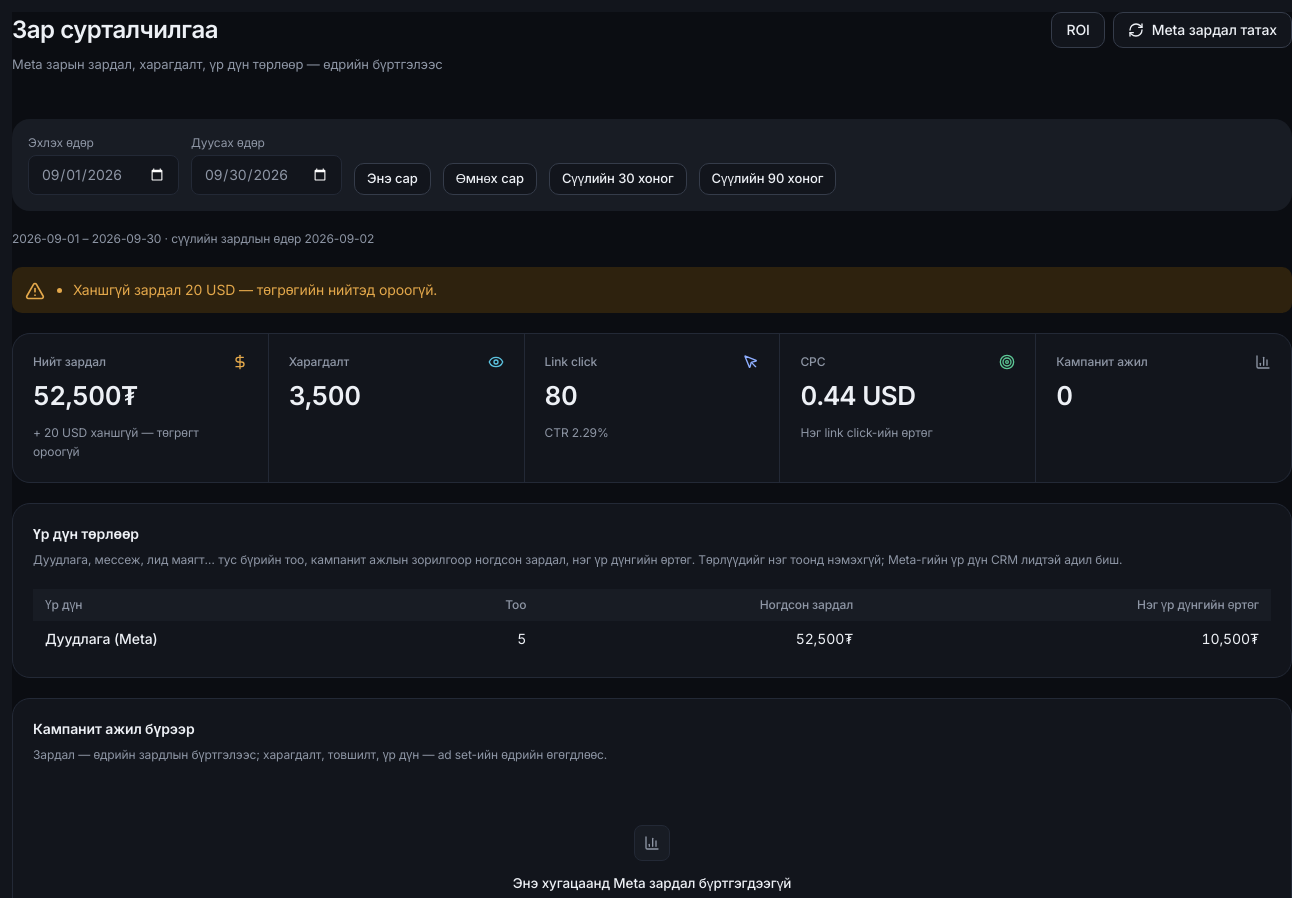
Test case: ads › re-reads when the range changes and rejects a reversed range without a request
The image size is (1292, 898).
Expected: the heading "Энэ хугацаанд Meta зардал бүртгэгдээгүй" is shown, [513,872,791,893]
Type "2026-08-01" into the date field labelled "Эхлэх өдөр" at x=104, y=175, box [28,155,179,195]
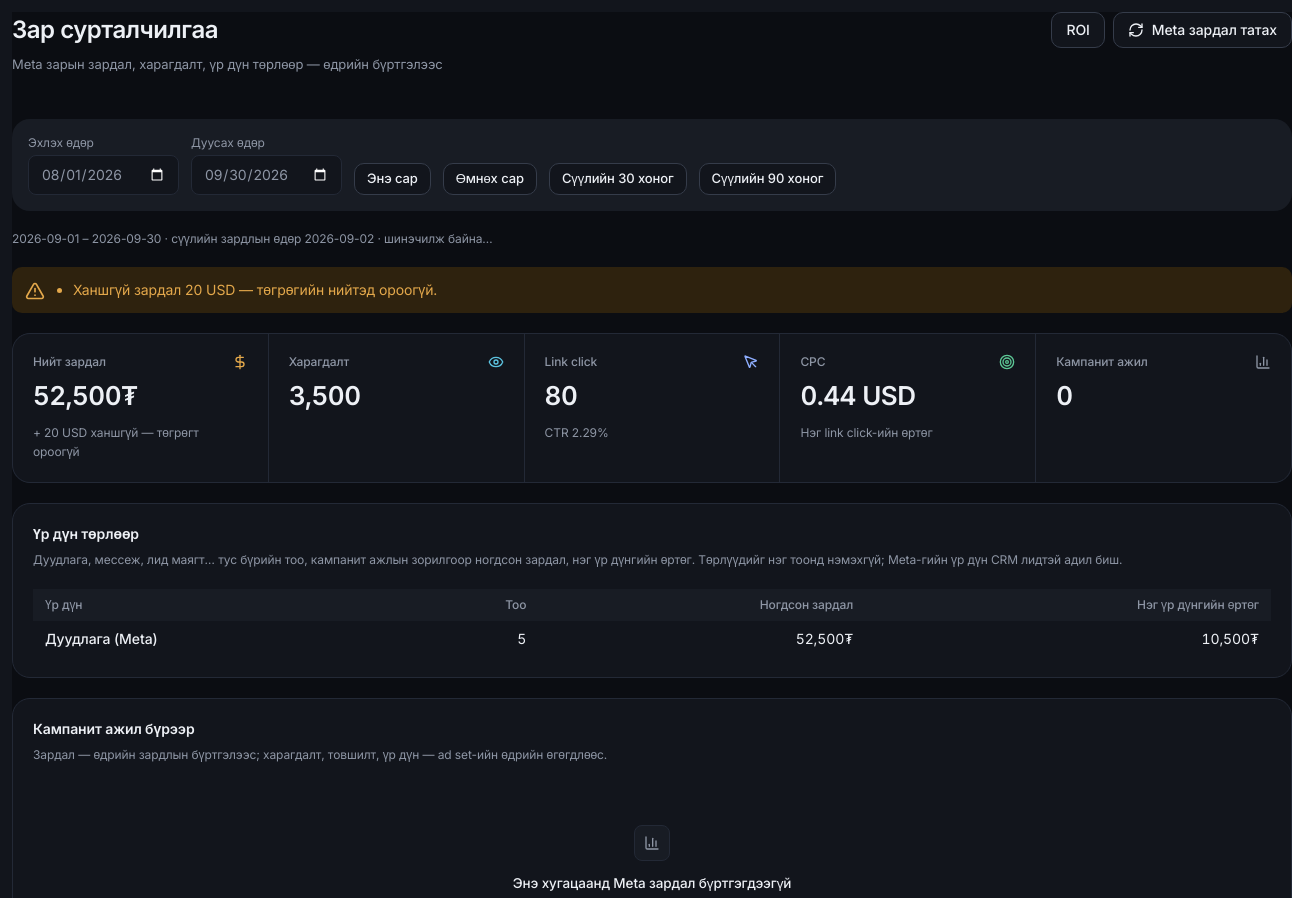
Type "2026-10-01" into the date field labelled "Эхлэх өдөр" at x=104, y=175, box [28,155,179,195]
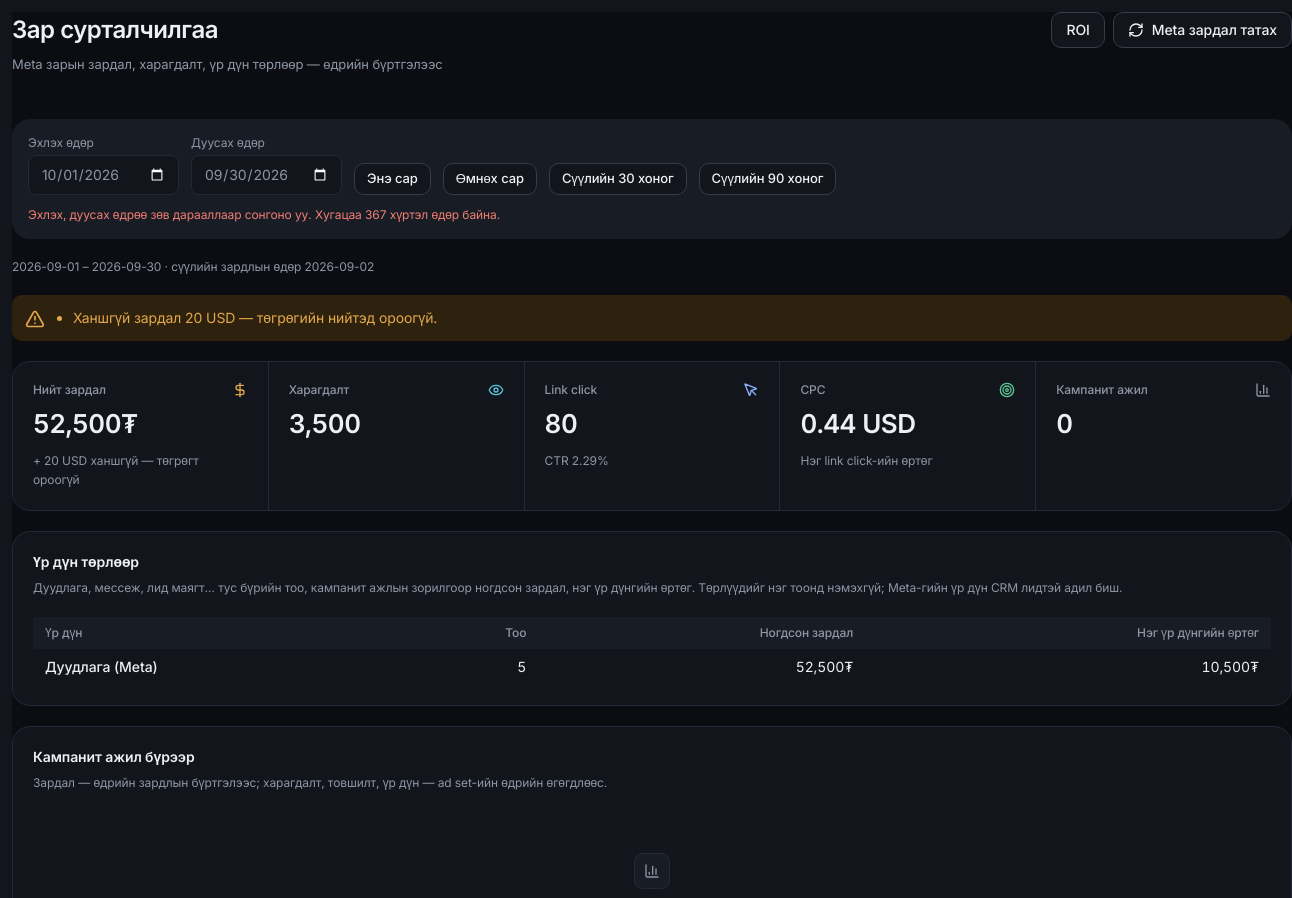
Now the text "Эхлэх, дуусах өдрөө зөв дарааллаар сонгоно уу. Хугацаа 367 хүртэл өдөр байна." is shown, box [28,207,500,222]
